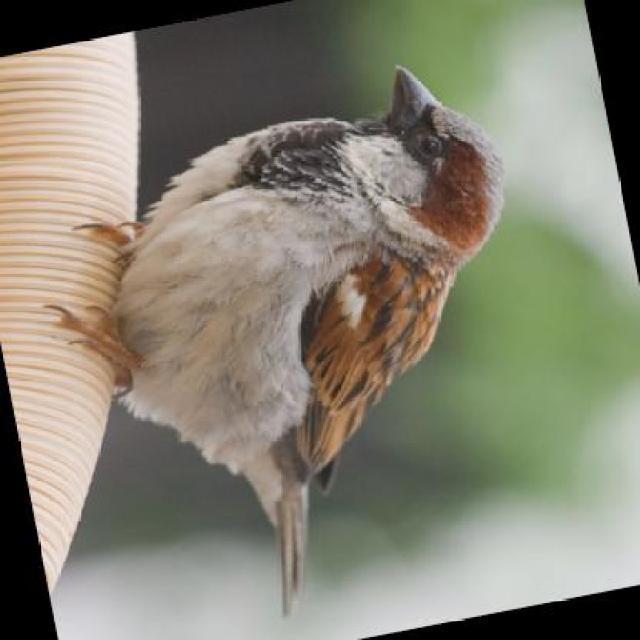Bird: (64, 73, 492, 573)
